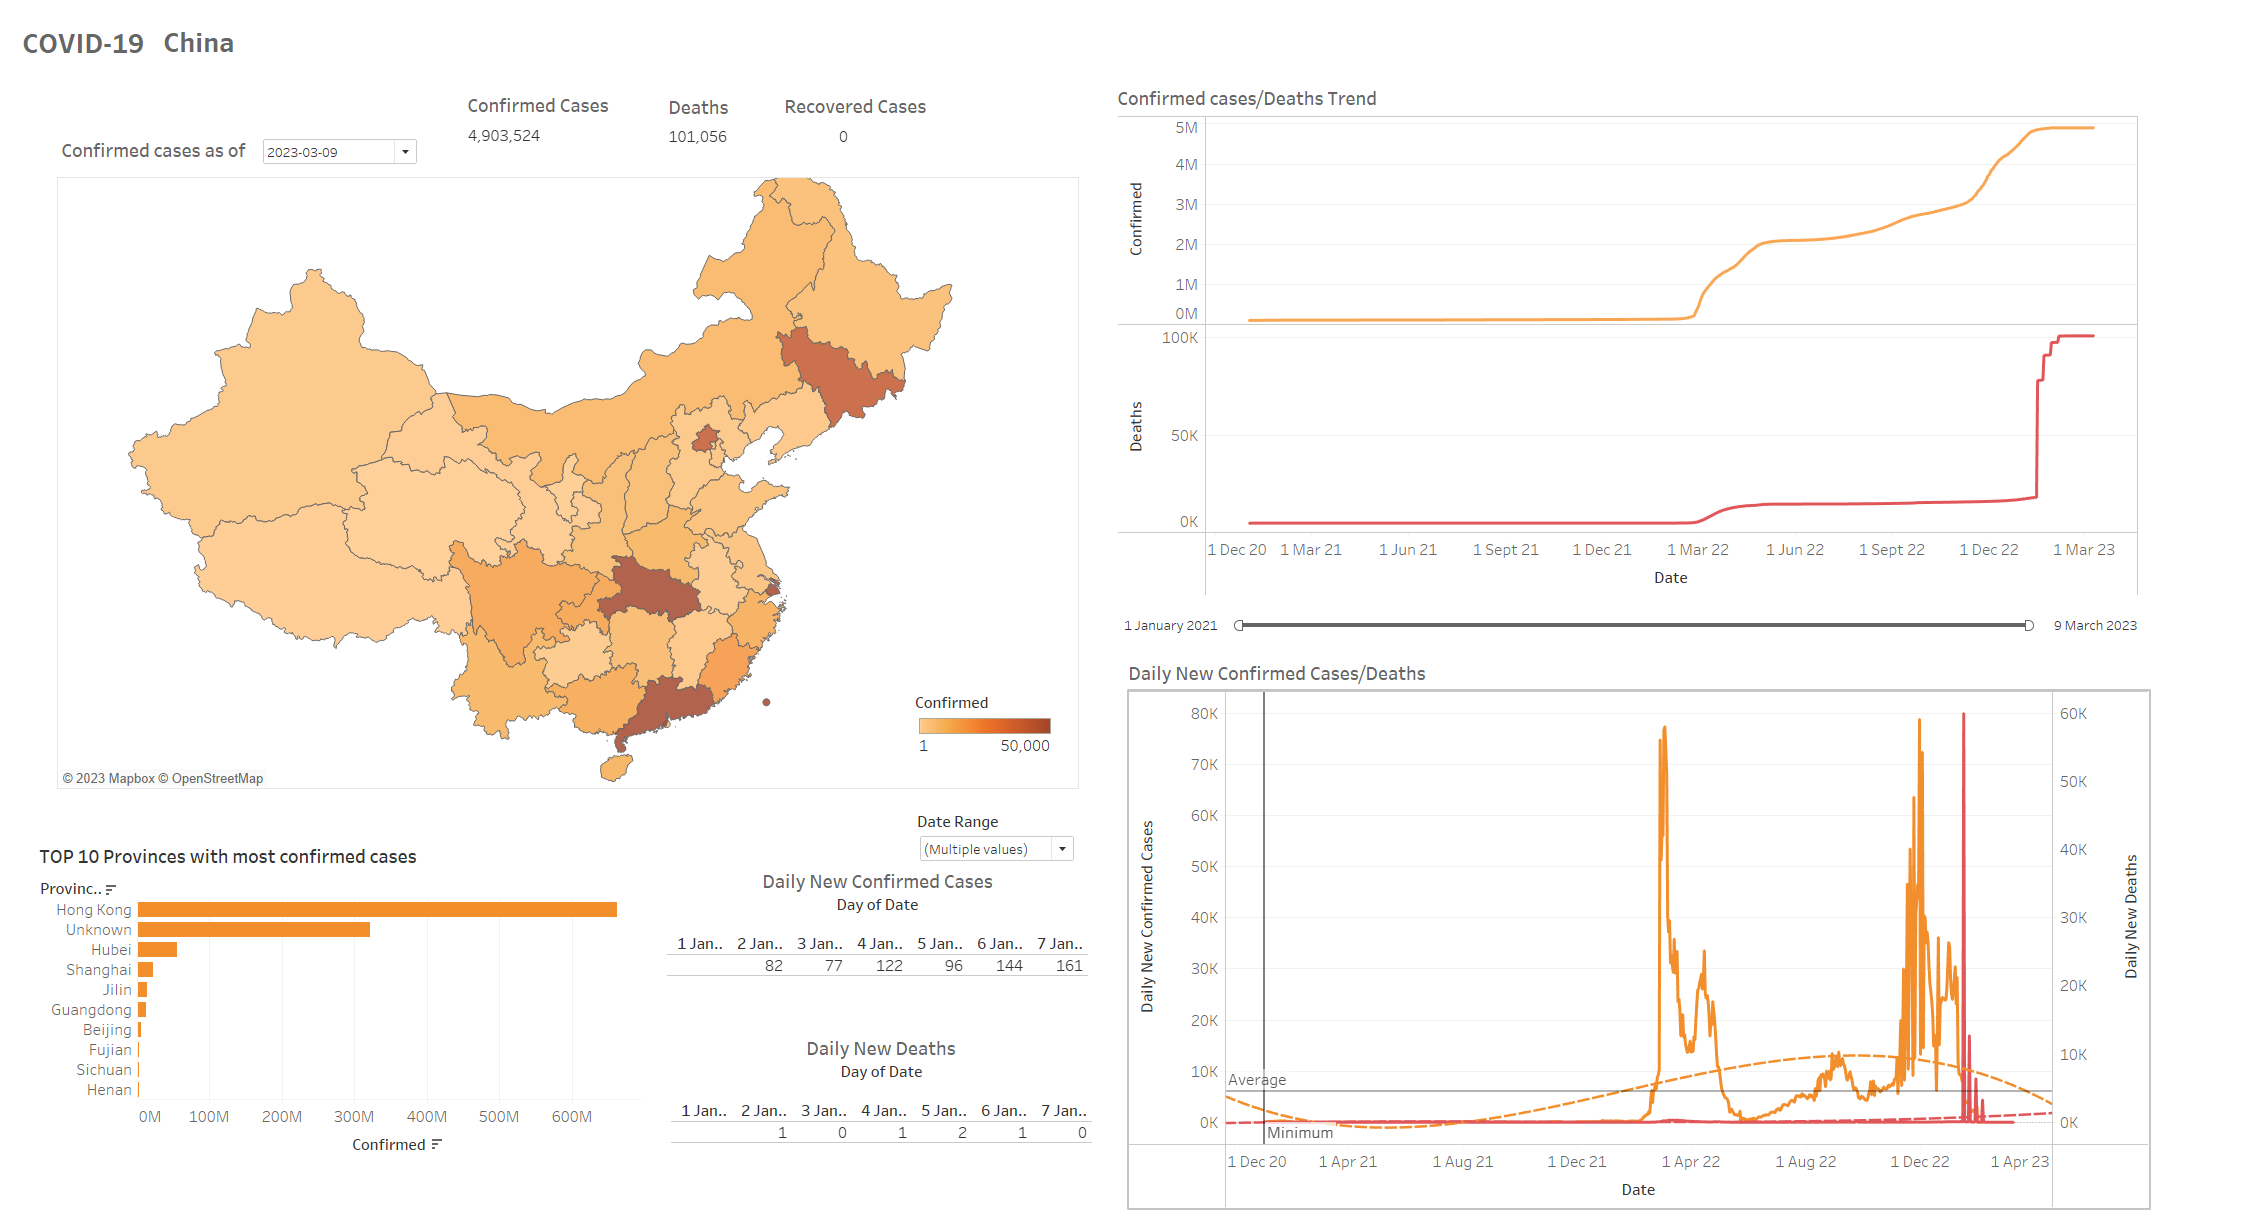

What the dashboard file says about the page in this screenshot:
{"tool":"tableau","page":{"name":"Dashboard 1","canvas":[1000,1000],"units":"permille","ordinal":0},"visuals":[{"type":"text","box":[9.3,12.9,69.3,43.1]},{"type":"text","box":[72,12.9,48,41.4]},{"type":"text","box":[496,55.2,122.2,50]},{"type":"text","box":[207.1,75.1,74.2,22.3]},{"type":"text","box":[296.4,75.1,44.4,26.4]},{"type":"text","box":[348,75.1,66.2,24.8]},{"type":"worksheet","title":"Sheet 2","mark":"Automatic","rows":["Confirmed","Deaths"],"cols":["Date"],"box":[497.8,95.7,453.3,396]},{"type":"text","box":[26.7,101.5,94.2,43.7]},{"type":"worksheet","title":"Sheet 4","mark":"Automatic","box":[220,102.3,36.4,22.3]},{"type":"worksheet","title":"Sheet 5","mark":"Automatic","box":[290.2,103.1,36.4,23.1]},{"type":"worksheet","title":"Sheet 10","mark":"Automatic","box":[352.9,103.1,44.4,23.1]},{"type":"filter","title":"Sheet 3","param":"[federated.05la2fo0dkodn315onp760oqeblp].[none:Calculation_859061663030726664:nk","box":[116.4,112.2,71.1,25.6]},{"type":"worksheet","title":"Sheet 3","mark":"Automatic","box":[26.2,146,454.2,504.9]},{"type":"filter","title":"Sheet 2","param":"[federated.05la2fo0dkodn315onp760oqeblp].[tdy:Date:qk]","box":[494.7,505.8,464.9,30.5]},{"type":"text","box":[500.9,542.9,135.6,24.8]},{"type":"worksheet","title":"Sheet 6","mark":"Automatic","rows":["Calculation_1401745418480709632"],"cols":["Date"],"box":[502.7,570.1,453.3,426.6]},{"type":"legend","title":"Sheet 3","param":"[federated.05la2fo0dkodn315onp760oqeblp].[sum:Confirmed:qk]","box":[407.6,570.7,62.2,75.9]},{"type":"filter","title":"Sheet 7","param":"[federated.05la2fo0dkodn315onp760oqeblp].[none:Calculation_859061663030726664:nk","box":[408.4,669.1,71.1,44.6]},{"type":"text","box":[16.9,693.9,171.1,24.8]},{"type":"worksheet","title":"Sheet 11","mark":"Bar","rows":["Province_State"],"cols":["Confirmed"],"box":[17.3,712.9,268.4,252.5]},{"type":"text","box":[337.3,733.5,105.8,24.8]},{"type":"worksheet","title":"Sheet 8","mark":"Automatic","cols":["Date"],"box":[297.3,766.5,188.4,58.6]},{"type":"text","box":[357.8,852.3,69.8,24.8]},{"type":"worksheet","title":"Sheet 7","mark":"Automatic","cols":["Date"],"box":[299.1,885.3,192.9,58.6]}]}

Visuals, with their boxes on the dashboard's canvas, which has no fixed pixel size, in thousandths of its width and height (x1, y1, x2, y2). These are canvas units, not pixel positions in the 2241x1210 screenshot, which may show the page scaled, cropped or inside an application window:
text: bbox=[9, 13, 79, 56]
text: bbox=[72, 13, 120, 54]
text: bbox=[496, 55, 618, 105]
text: bbox=[207, 75, 281, 97]
text: bbox=[296, 75, 341, 102]
text: bbox=[348, 75, 414, 100]
"Sheet 2" worksheet: bbox=[498, 96, 951, 492]
text: bbox=[27, 102, 121, 145]
"Sheet 4" worksheet: bbox=[220, 102, 256, 125]
"Sheet 5" worksheet: bbox=[290, 103, 327, 126]
"Sheet 10" worksheet: bbox=[353, 103, 397, 126]
"Sheet 3" filter: bbox=[116, 112, 188, 138]
"Sheet 3" worksheet: bbox=[26, 146, 480, 651]
"Sheet 2" filter: bbox=[495, 506, 960, 536]
text: bbox=[501, 543, 636, 568]
"Sheet 6" worksheet: bbox=[503, 570, 956, 997]
"Sheet 3" legend: bbox=[408, 571, 470, 647]
"Sheet 7" filter: bbox=[408, 669, 480, 714]
text: bbox=[17, 694, 188, 719]
"Sheet 11" worksheet (Bar marks): bbox=[17, 713, 286, 965]
text: bbox=[337, 734, 443, 758]
"Sheet 8" worksheet: bbox=[297, 766, 486, 825]
text: bbox=[358, 852, 428, 877]
"Sheet 7" worksheet: bbox=[299, 885, 492, 944]
